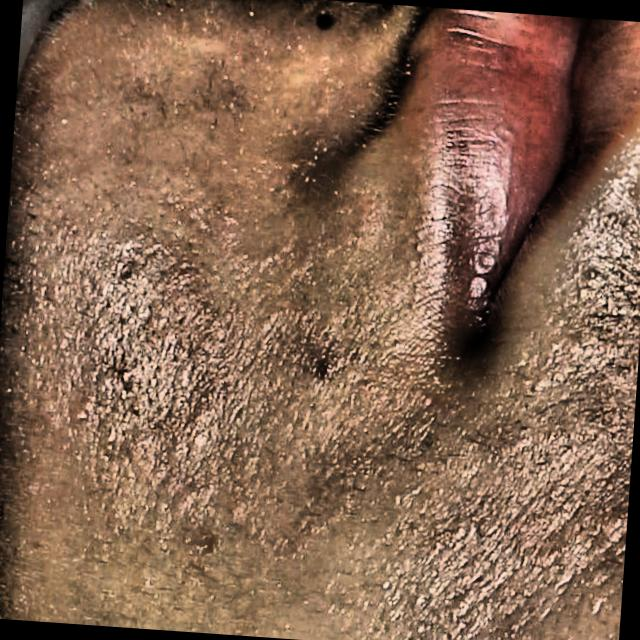whiteheads: (68, 405, 94, 426), (112, 365, 132, 385)
